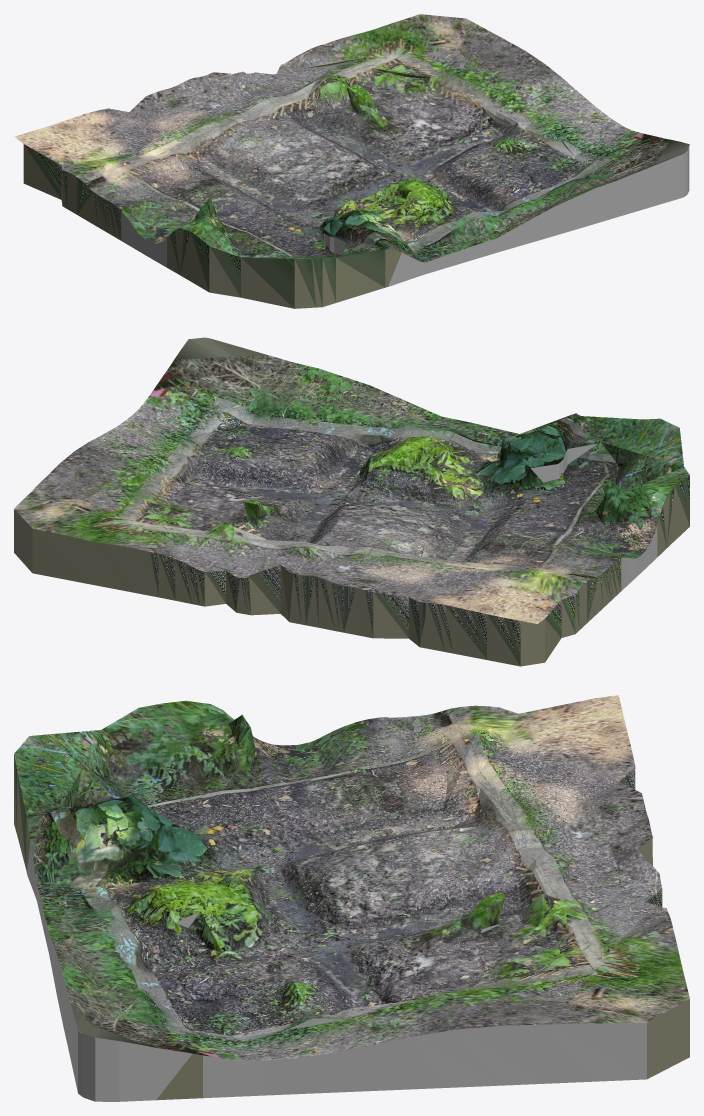
Rendered from garden_939faces_extruded.gltf.
The picture shows the model from 3 angles, top to bottom: view 1: azimuth 30°, elevation 25°; view 2: azimuth 150°, elevation 25°; view 3: azimuth 270°, elevation 25°; orthographic projection. The views are drawn at different scales.
Size of the model in its own units: 39.44 by 4.53 by 32.34.
Materials: 2 (1 with a texture image).
